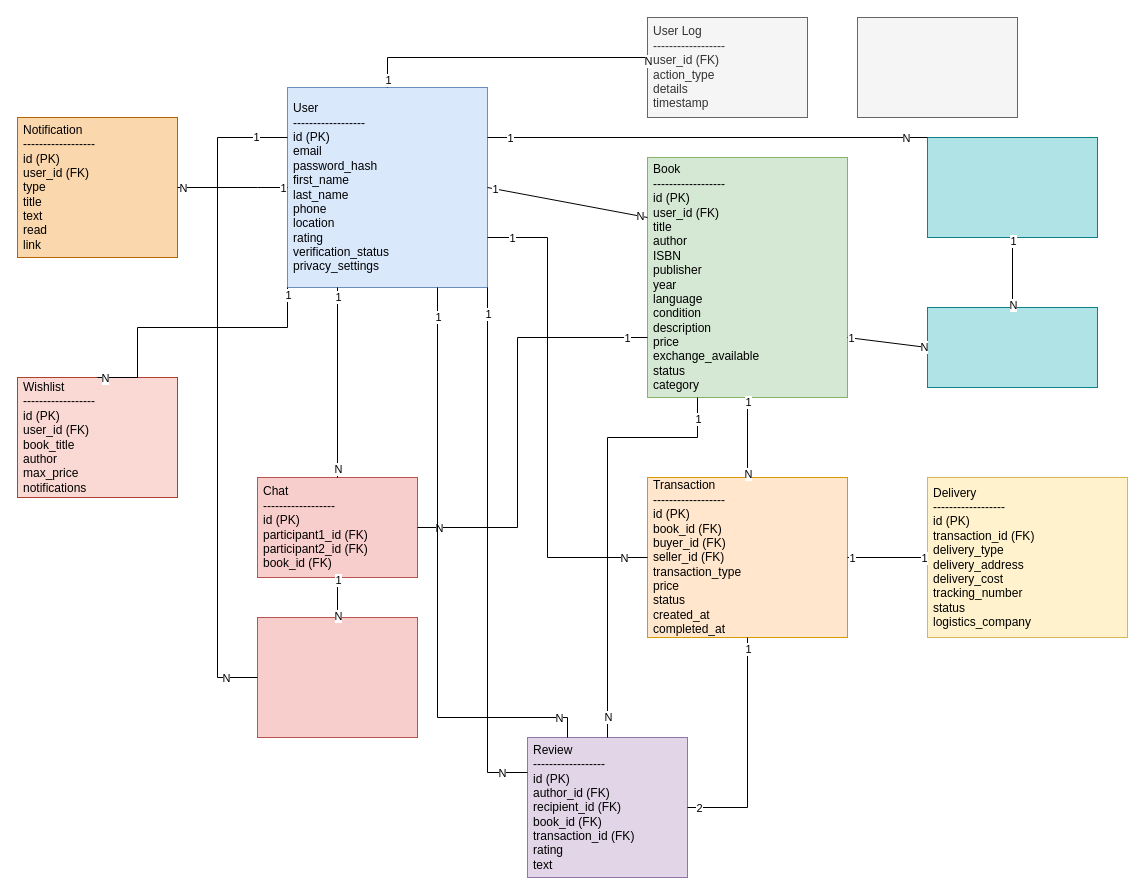
This 1145x895 diagram has some shape labels left out. The box of each missing label's shape, as (x1, y1, x2, y2) in pixels:
Book in Library ------------------ library_id (FK) book_id (FK) status: (926, 306, 1098, 388)
Message ------------------ id (PK) chat_id (FK) sender_id (FK) text sent_at read: (256, 616, 418, 738)
System Log ------------------ component level message timestamp: (856, 16, 1018, 118)
Virtual Library ------------------ id (PK) user_id (FK) name is_public: (926, 136, 1098, 238)
